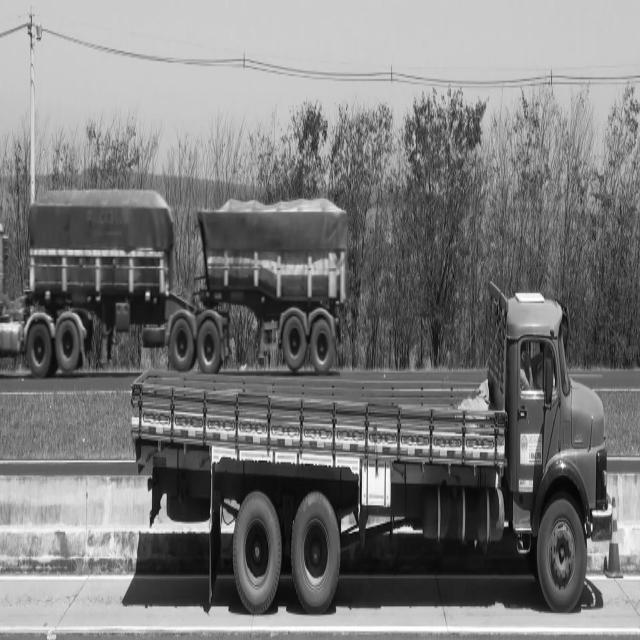Pole: (29, 3, 36, 205)
Truck: (131, 283, 610, 615), (0, 190, 348, 376)
